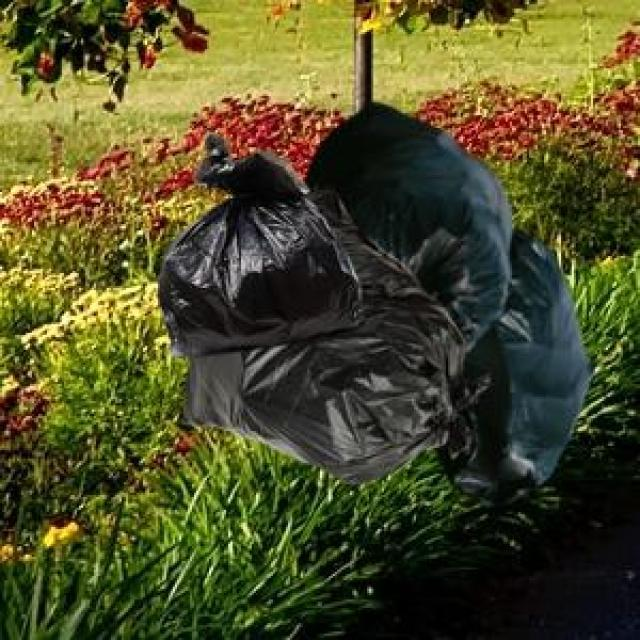Vinyl: (183, 202, 491, 484), (172, 152, 364, 354)
